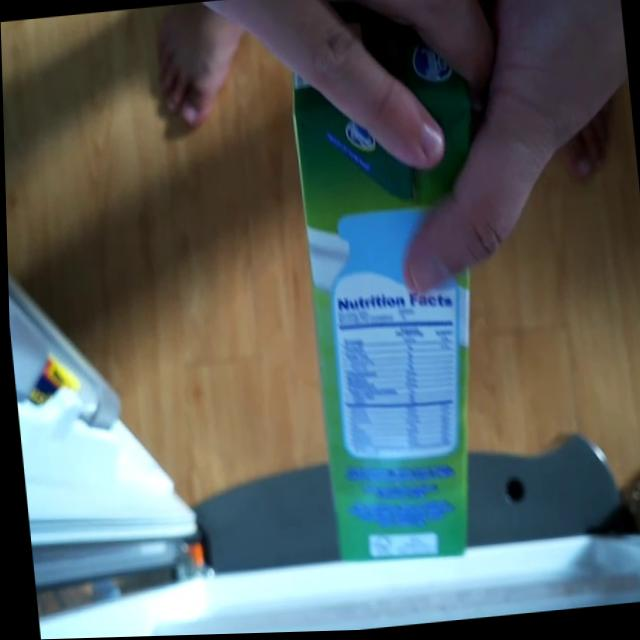milk: (279, 8, 513, 587)
